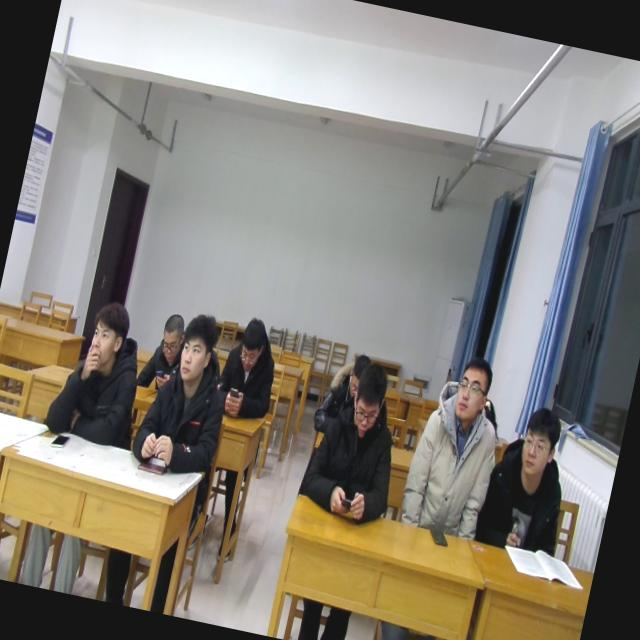bow: (210, 309, 288, 426), (309, 346, 375, 442), (135, 306, 194, 396)
down: (343, 354, 393, 436), (230, 307, 272, 373), (150, 304, 188, 370), (340, 345, 376, 401)
lookup: (444, 347, 501, 430), (80, 294, 136, 378), (510, 400, 566, 484), (168, 306, 223, 389)
sit: (396, 344, 516, 546), (126, 304, 245, 486), (295, 350, 417, 526), (472, 394, 586, 562), (41, 288, 156, 452)
